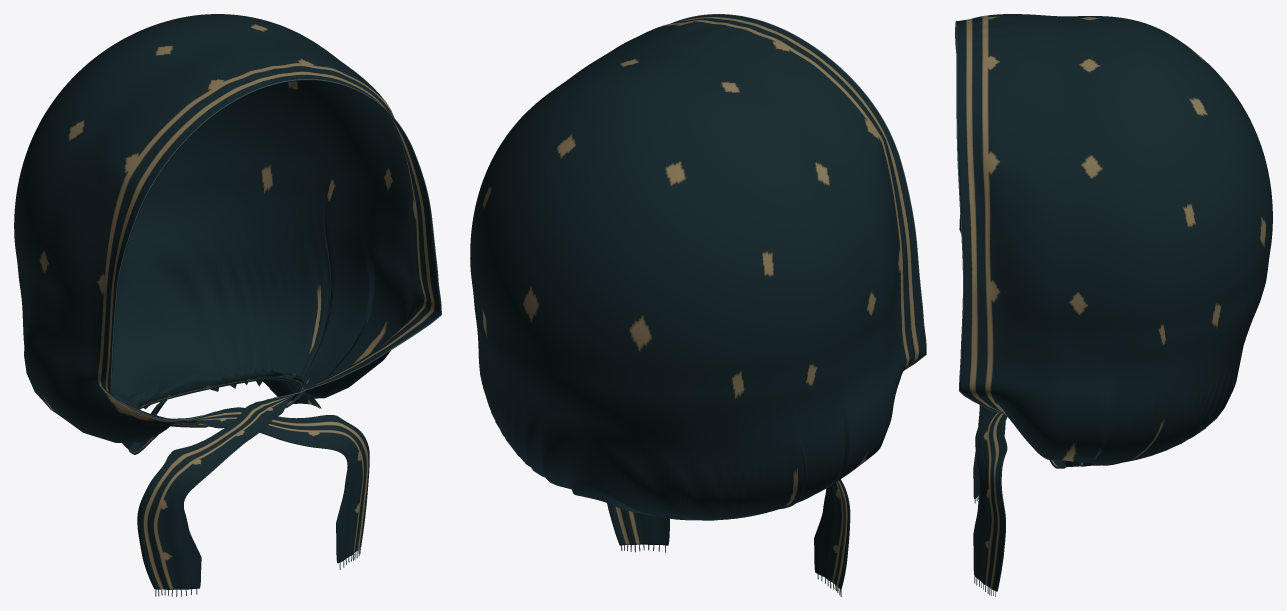
The model's file is Masculine-Masculine-taper-tshirt-pashmina250-headgear-a583abdd.glb.
The picture shows the model from 3 angles, left to right: view 1: azimuth 30°, elevation 25°; view 2: azimuth 150°, elevation 25°; view 3: azimuth 270°, elevation 25°; orthographic projection. The views are drawn at different scales.
Parts seen in each view (by area): view 1: 226 headgear / Headwear / continuous woven pashmina239, 226 headgear / Headwear / face edge239; view 2: 226 headgear / Headwear / continuous woven pashmina239, 226 headgear / Headwear / face edge239; view 3: 226 headgear / Headwear / continuous woven pashmina239, 226 headgear / Headwear / face edge239.
Part boxes in pixels (x1=…): 226 headgear / Headwear / continuous woven pashmina239: x1=14, y1=14, x2=440, y2=589; 226 headgear / Headwear / face edge239: x1=110, y1=79, x2=441, y2=420; 226 headgear / Headwear / continuous woven pashmina239: x1=470, y1=14, x2=925, y2=589; 226 headgear / Headwear / face edge239: x1=671, y1=14, x2=926, y2=370; 226 headgear / Headwear / continuous woven pashmina239: x1=955, y1=14, x2=1272, y2=591; 226 headgear / Headwear / face edge239: x1=955, y1=20, x2=1004, y2=413.
Size of the model in its own units: 0.8786 by 1.22 by 0.681.
3 materials, 1 textured.
